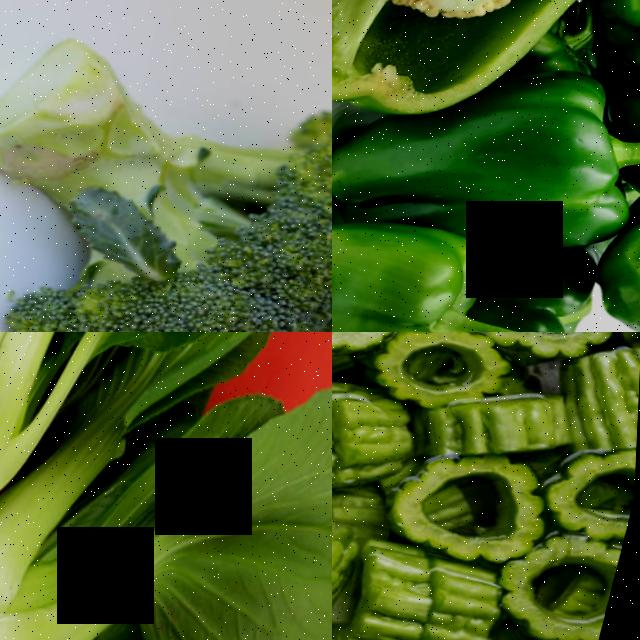bell pepper: (436, 64, 640, 285), (332, 0, 523, 158), (332, 182, 498, 332)
bitter gourd: (560, 350, 640, 475), (341, 546, 437, 640), (332, 489, 369, 631), (429, 574, 504, 640)
bok choy: (0, 479, 332, 640), (0, 332, 246, 466)
broccoli: (0, 0, 332, 332)
